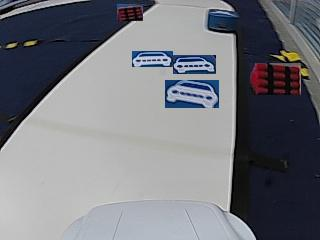prop: (207, 9, 239, 33)
